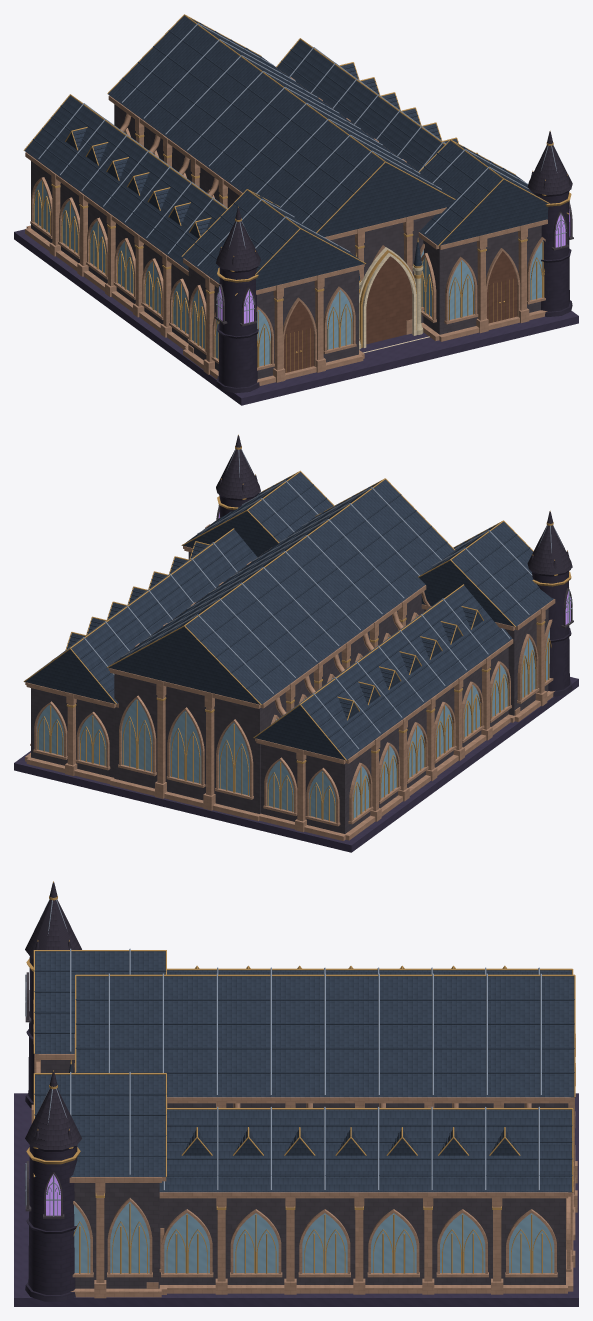
File: annex-of-addenda.glb
3 renders of one model, top to bottom at view 1: azimuth 30°, elevation 25°; view 2: azimuth 150°, elevation 25°; view 3: azimuth 270°, elevation 25°, orthographic. The views are drawn at different scales.
Bounding box in the file's own units: 27.98 × 14.17 × 31.4.
Materials: 15 (15 with a texture image).
